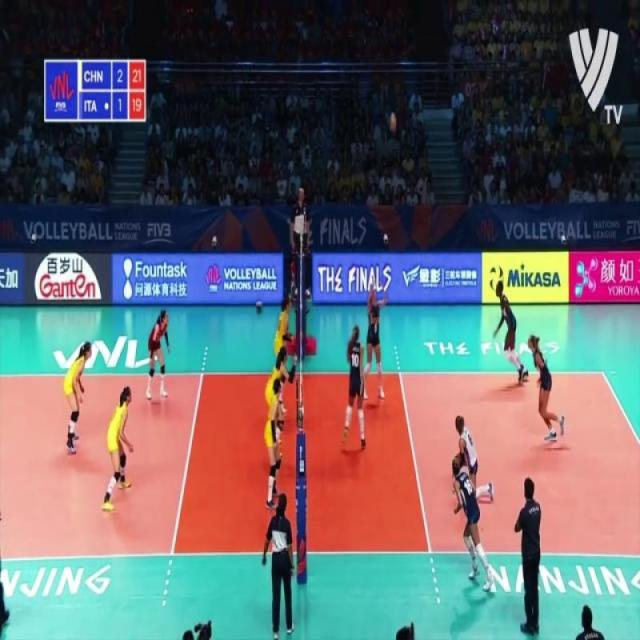volleyball: (490, 264, 504, 292), (389, 112, 397, 131)
